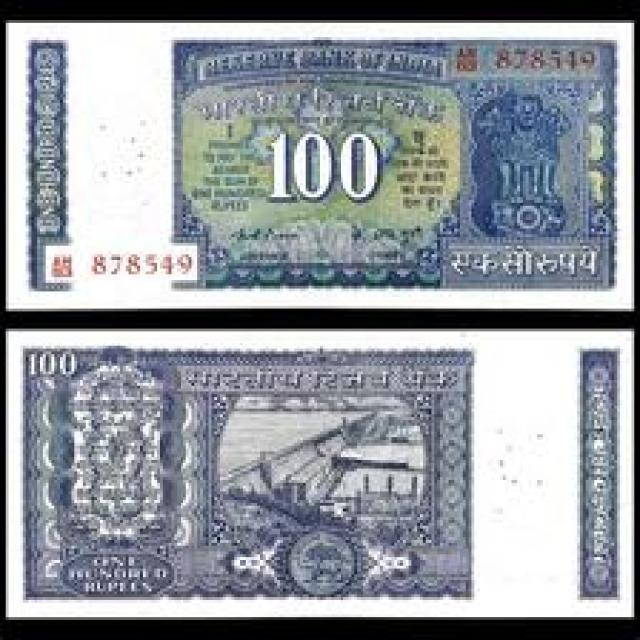banknote: (3, 326, 634, 617), (3, 20, 634, 309)
